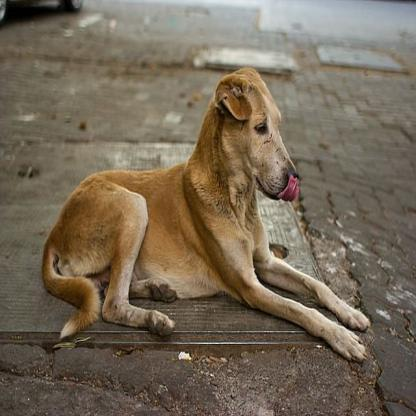dog: (57, 58, 356, 353)
